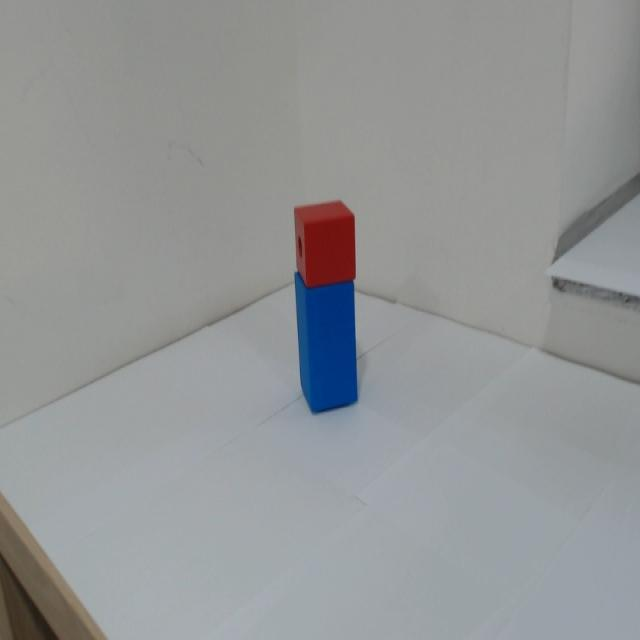cube: (278, 197, 381, 289)
